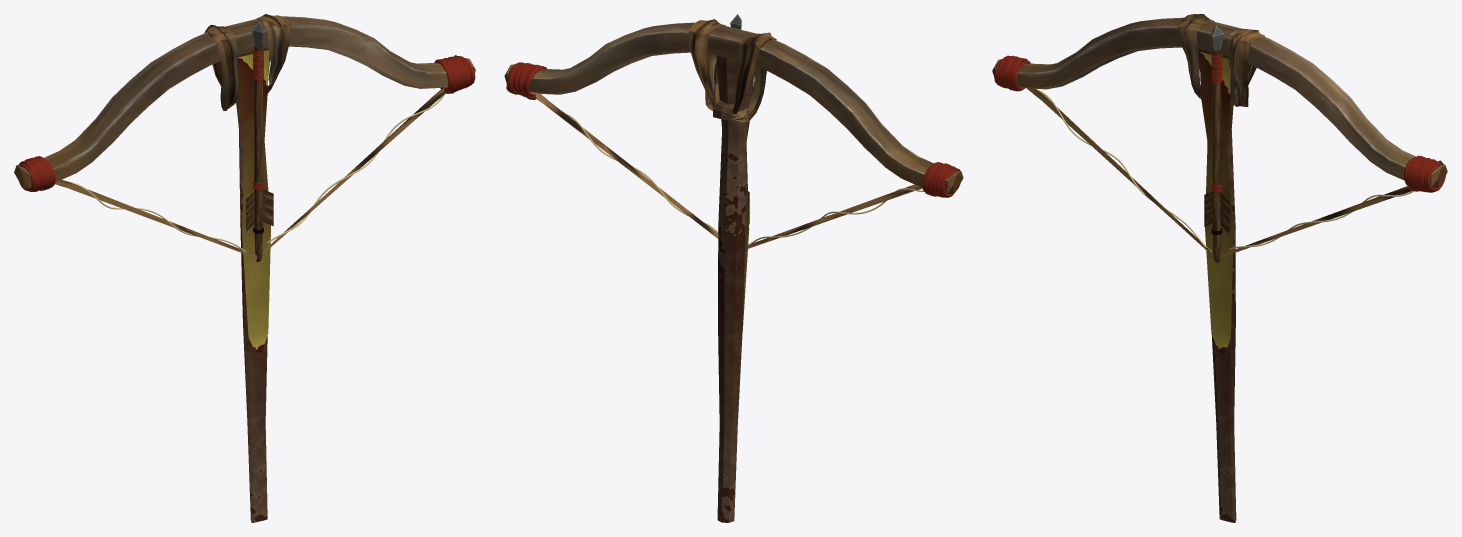
3 renders of one model, left to right at view 1: azimuth 30°, elevation 25°; view 2: azimuth 150°, elevation 25°; view 3: azimuth 330°, elevation 25°, orthographic.
Visible parts, largest first — view 1: Besta, BestaDetalhe, Besta.Corpo, CordaArcoDir, CordaArcoEsq; view 2: Besta, Besta.Corpo, CordaArcoDir, CordaArcoEsq; view 3: Besta, BestaDetalhe, Besta.Corpo, CordaArcoDir, CordaArcoEsq.
Part boxes in pixels (x1=…): Besta: x1=14, y1=14, x2=475, y2=261; BestaDetalhe: x1=237, y1=50, x2=270, y2=353; Besta.Corpo: x1=235, y1=48, x2=269, y2=522; CordaArcoDir: x1=434, y1=55, x2=475, y2=93; CordaArcoEsq: x1=19, y1=156, x2=55, y2=191; Besta: x1=504, y1=14, x2=963, y2=248; Besta.Corpo: x1=713, y1=55, x2=755, y2=522; CordaArcoDir: x1=506, y1=62, x2=546, y2=99; CordaArcoEsq: x1=922, y1=162, x2=960, y2=197; Besta: x1=992, y1=14, x2=1447, y2=262; BestaDetalhe: x1=1200, y1=52, x2=1233, y2=354; Besta.Corpo: x1=1198, y1=49, x2=1236, y2=522; CordaArcoDir: x1=1404, y1=155, x2=1445, y2=192; CordaArcoEsq: x1=994, y1=55, x2=1030, y2=91.
Size of the model in its own units: 38.17 by 40.84 by 3.76.
Materials: 10 (4 with a texture image).
